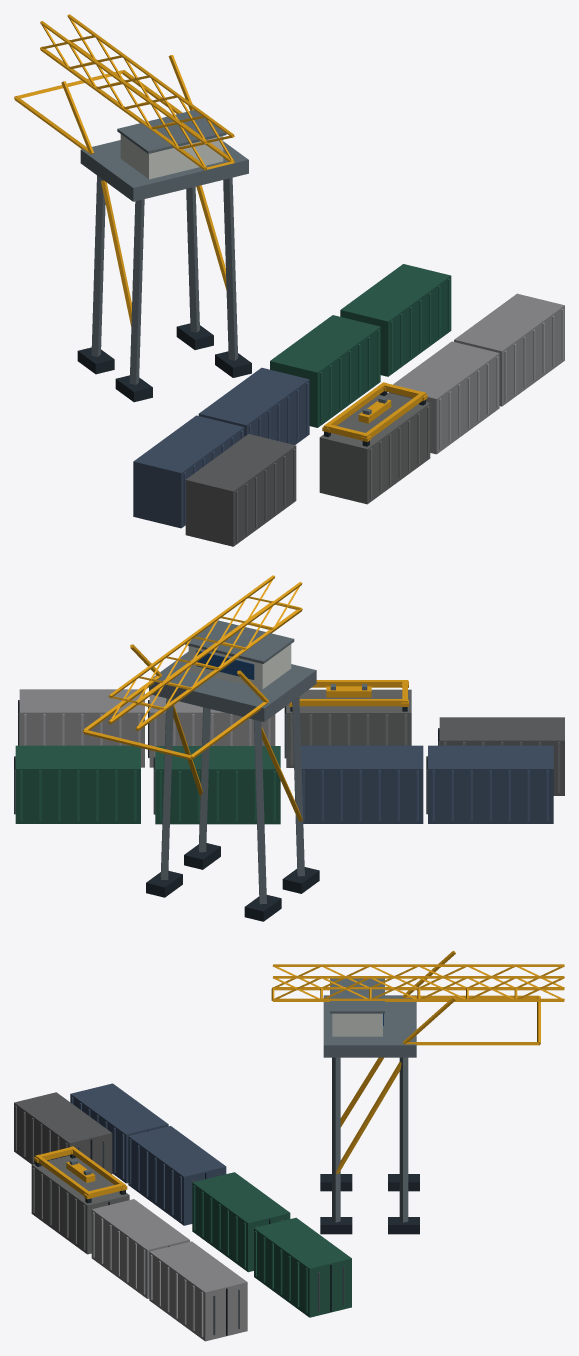
The model's file is SeaportSystem-02-ShipToShoreGantryCrane-01-20Footer-2-11.glb.
3 views of the same model, one above another, from view 1: azimuth 30°, elevation 25°; view 2: azimuth 150°, elevation 25°; view 3: azimuth 270°, elevation 25° (orthographic). The views are drawn at different scales.
Parts seen in each view (by area): view 1: SeaportSystem-02-ShipToShoreGantryCrane-01-20Footer-2-11; view 2: SeaportSystem-02-ShipToShoreGantryCrane-01-20Footer-2-11; view 3: SeaportSystem-02-ShipToShoreGantryCrane-01-20Footer-2-11.
Boxes of the visible parts, x1,y1,x2,y2 form: SeaportSystem-02-ShipToShoreGantryCrane-01-20Footer-2-11: [14, 14, 564, 546]; SeaportSystem-02-ShipToShoreGantryCrane-01-20Footer-2-11: [14, 575, 564, 921]; SeaportSystem-02-ShipToShoreGantryCrane-01-20Footer-2-11: [14, 950, 564, 1341].
Bounding box in the file's own units: 58.57 × 31.18 × 65.23.
